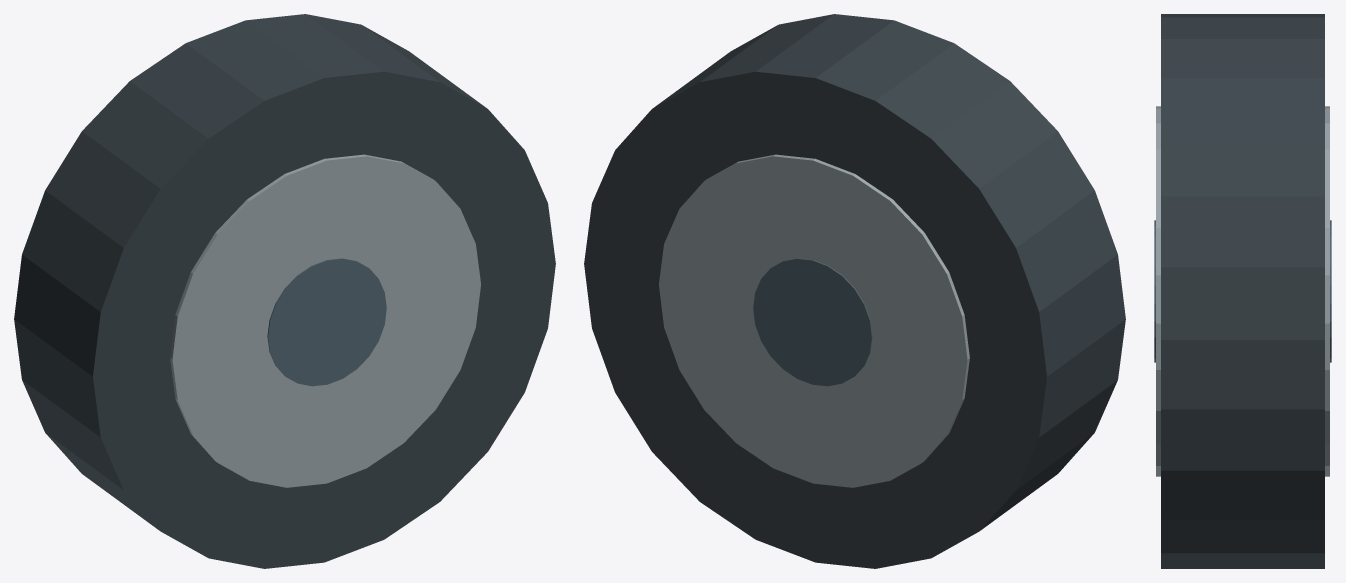
File: wheel.glb
The picture shows the model from 3 angles, left to right: view 1: azimuth 30°, elevation 25°; view 2: azimuth 150°, elevation 25°; view 3: azimuth 270°, elevation 25°; orthographic projection. The views are drawn at different scales.
Visible parts, largest first — view 1: tire, alloy, hub; view 2: tire, alloy, hub; view 3: tire, alloy, hub.
Part boxes in pixels (x1,y1,x2,y2): tire: (14,14,555,568); alloy: (170,154,480,487); hub: (267,258,386,386); tire: (584,14,1125,568); alloy: (659,154,969,487); hub: (753,258,872,386); tire: (1161,14,1324,568); alloy: (1156,106,1329,476); hub: (1154,220,1331,362).
Size of the model in its own units: 0.78 by 0.78 by 0.248.
